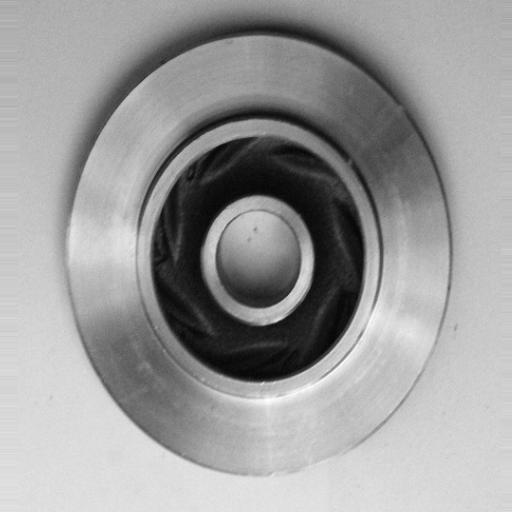unpolished_casting: (63, 30, 456, 483)
